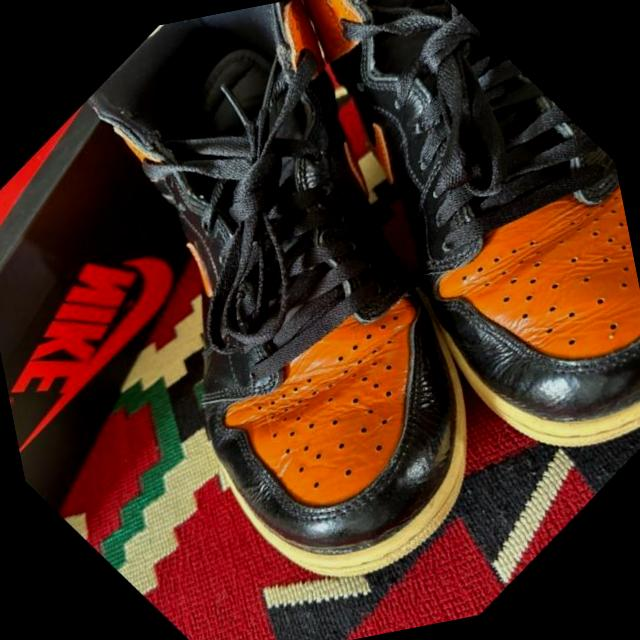nike_original_jordan: (0, 0, 640, 640), (165, 0, 640, 570)
